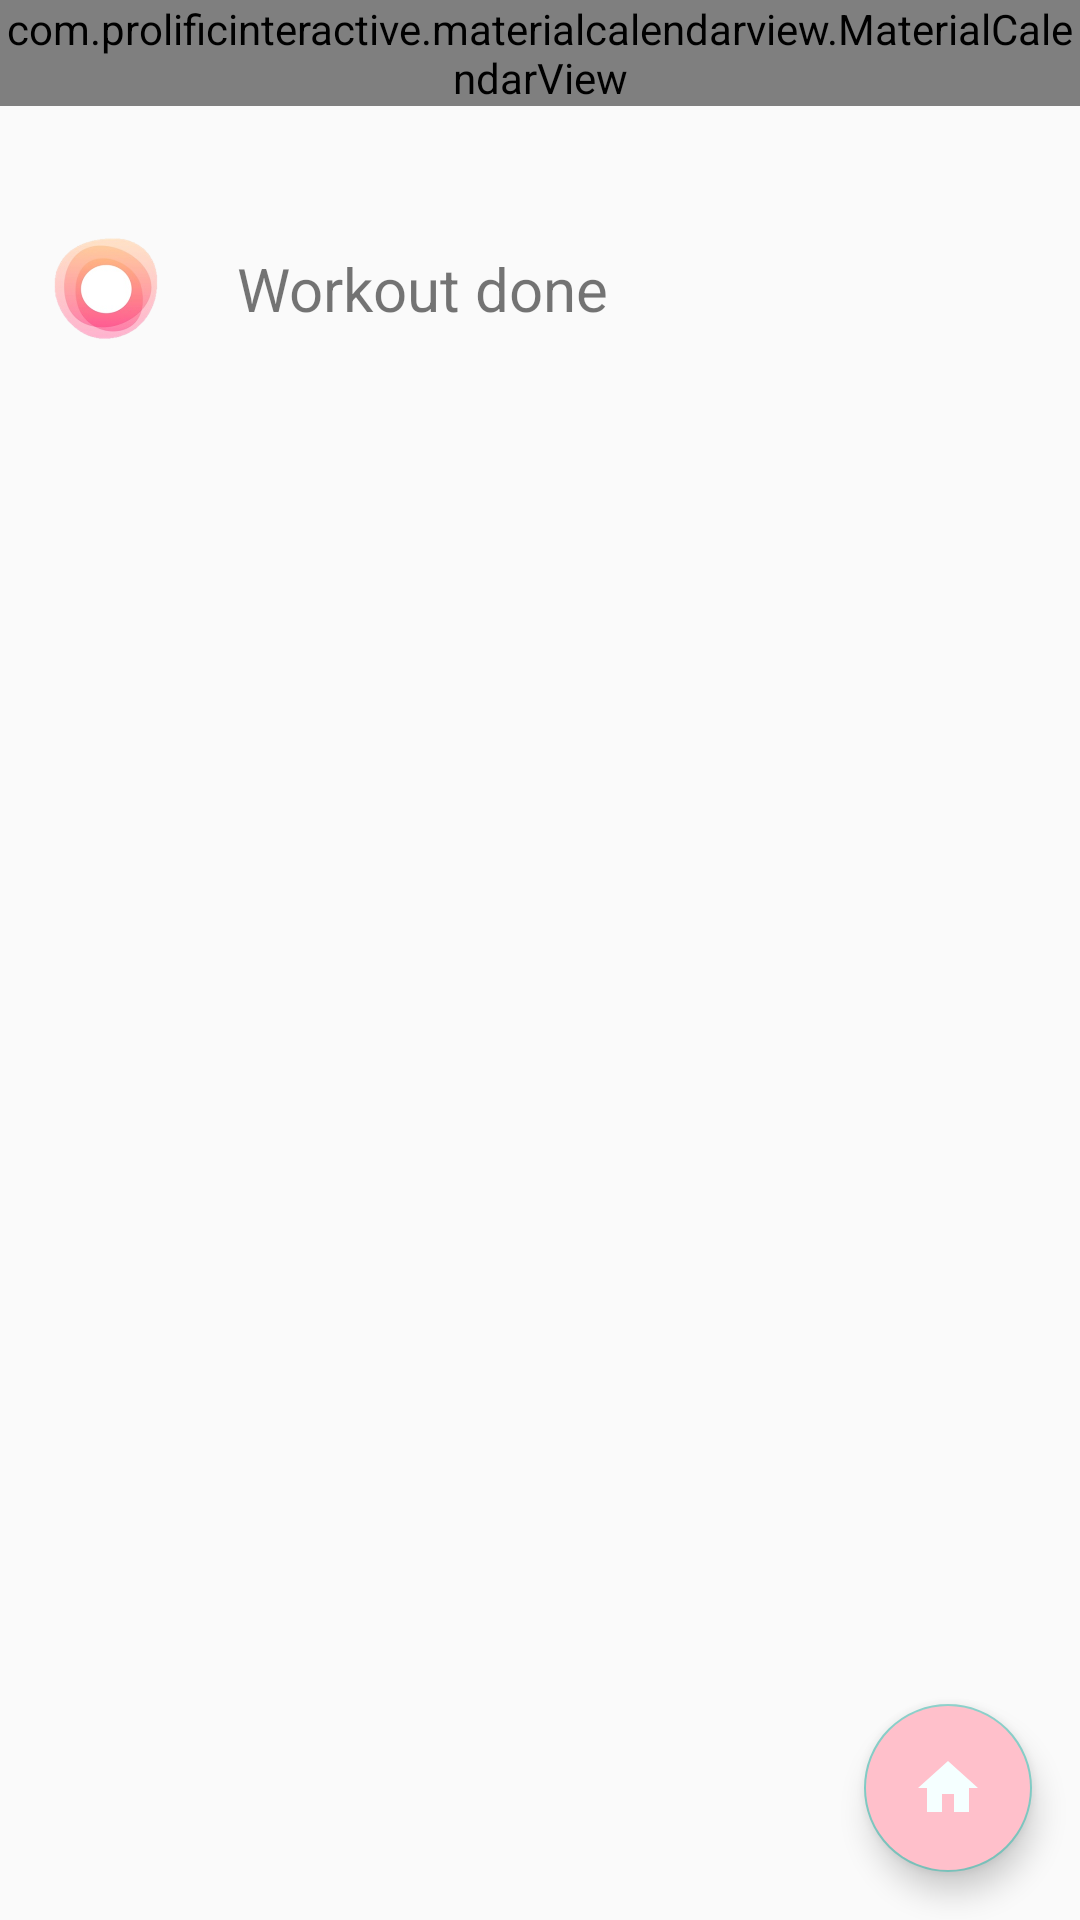

Icon click points for this 1080*1920 phone screenshot, format point (x, y):
home: point (948, 1788)
